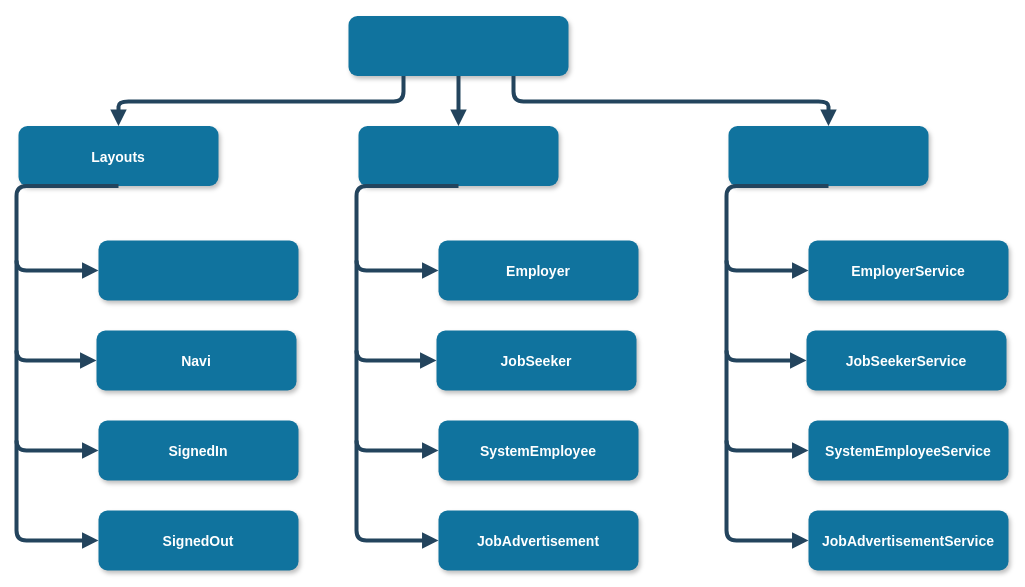
Image size: 1025x587. Some labels were removed from this diagram. The shapes that lost their labels are listed below. From the top down, each one's centre as x and y in pixels, then its label:
[459,47]: APP
[459,157]: Pages
[829,157]: Services
[199,271]: Dashboard
